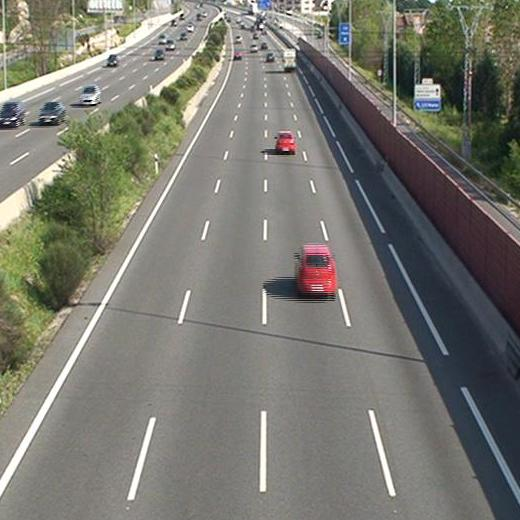car: (295, 247, 335, 294), (276, 131, 295, 153), (265, 51, 275, 62)
small-truck: (282, 49, 295, 69)
